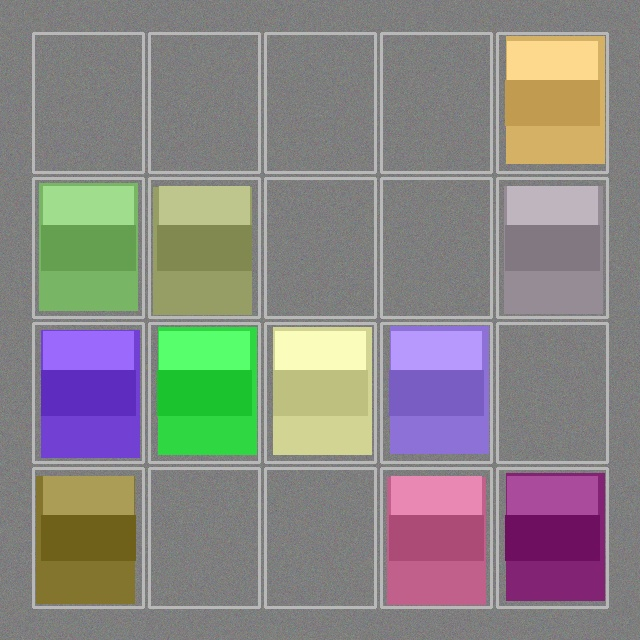space-empty: (35, 35, 141, 170), (151, 35, 257, 170), (267, 35, 373, 170), (383, 35, 489, 170), (267, 180, 373, 315), (383, 180, 489, 315), (499, 325, 605, 460), (151, 470, 257, 605), (267, 470, 373, 605)
space-occupied: (499, 35, 605, 170), (35, 180, 141, 315), (151, 180, 257, 315), (499, 180, 605, 315), (35, 325, 141, 460), (151, 325, 257, 460), (267, 325, 373, 460), (383, 325, 489, 460), (35, 470, 141, 605), (383, 470, 489, 605), (499, 470, 605, 605)
